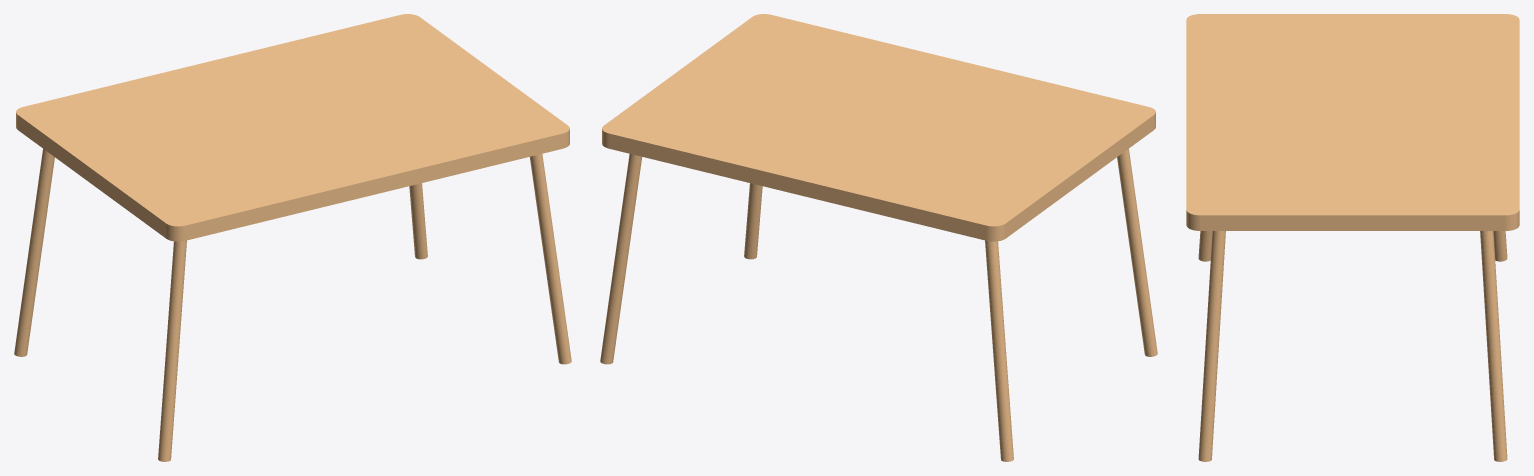
The model's file is masa.fbx.
The picture shows the model from 3 angles, left to right: view 1: azimuth 30°, elevation 25°; view 2: azimuth 150°, elevation 25°; view 3: azimuth 270°, elevation 25°; orthographic projection. The views are drawn at different scales.
Visible parts, largest first — view 1: Plane; view 2: Plane; view 3: Plane.
Boxes of the visible parts, <box> form: Plane: <box>14,14,571,461</box>; Plane: <box>600,14,1157,461</box>; Plane: <box>1186,14,1519,461</box>.
Bounding box in the file's own units: 85.1 × 47.31 × 58.02.
